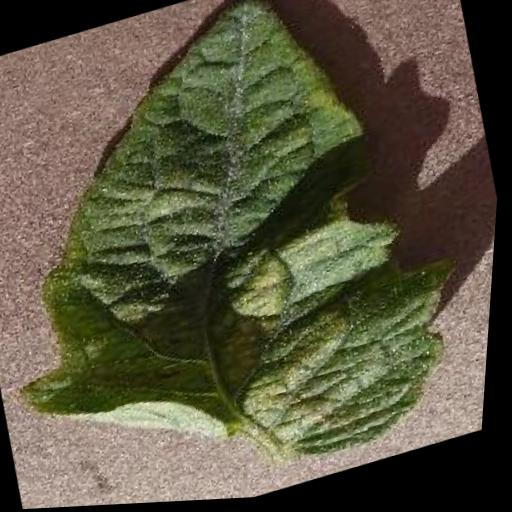Spider Mites: (0, 0, 499, 512)
